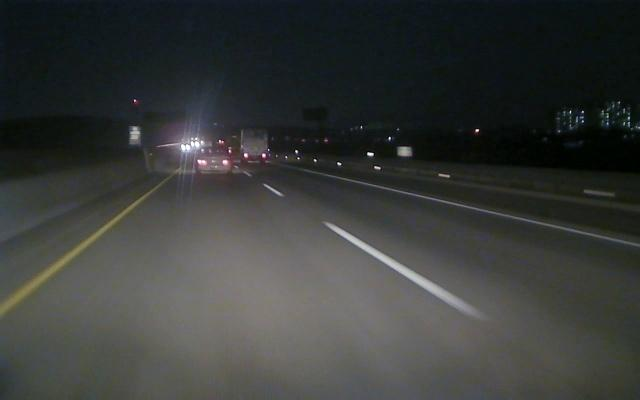lane: (263, 184, 491, 321), (314, 172, 638, 248), (1, 198, 143, 318)
